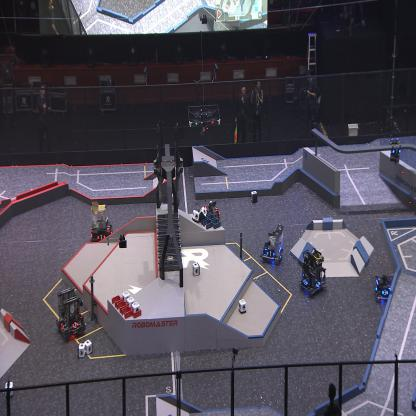car: (56, 288, 87, 340), (299, 249, 328, 296), (262, 222, 285, 265), (90, 201, 112, 244), (374, 273, 394, 303), (202, 199, 220, 229)
